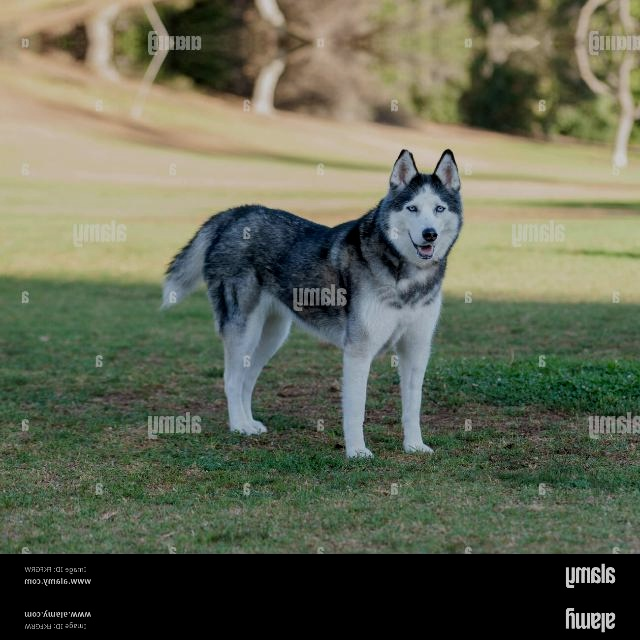dog: (150, 132, 475, 468)
